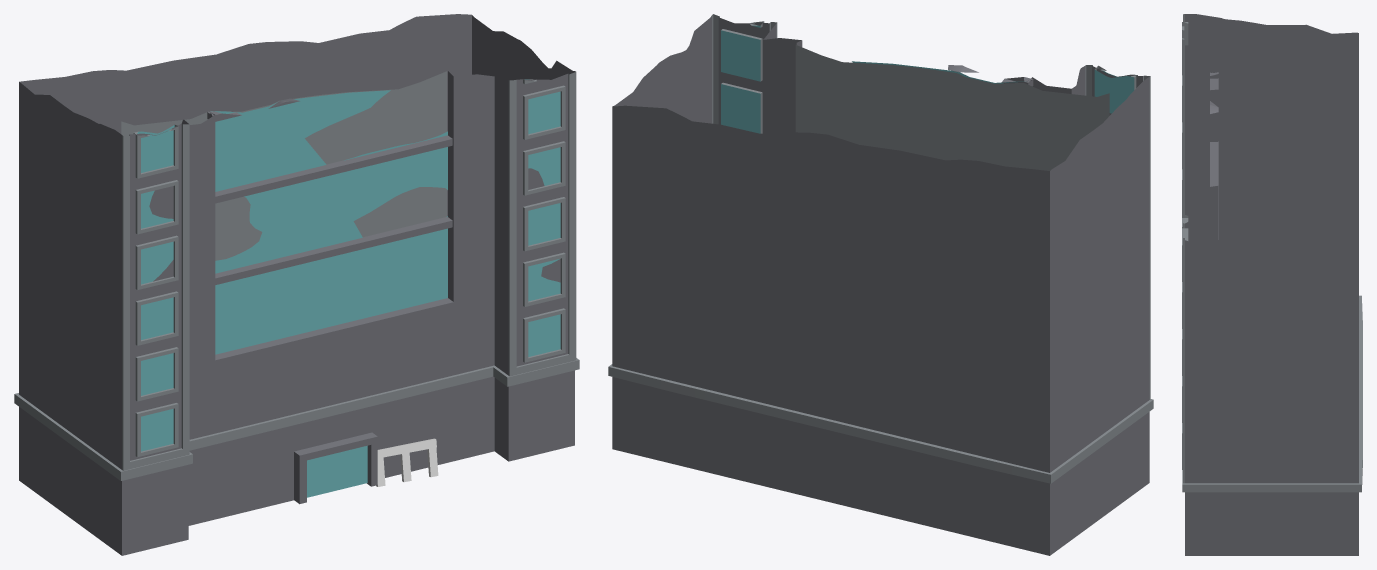
The model's file is Flat1_Verwoest.fbx.
The picture shows the model from 3 angles, left to right: view 1: azimuth 30°, elevation 25°; view 2: azimuth 150°, elevation 25°; view 3: azimuth 270°, elevation 25°; orthographic projection. The views are drawn at different scales.
Parts seen in each view (by area): view 1: Flat1_Verwoest; view 2: Flat1_Verwoest; view 3: Flat1_Verwoest.
Boxes of the visible parts, x1,y1,x2,y2 form: Flat1_Verwoest: (14, 14, 579, 555); Flat1_Verwoest: (608, 14, 1153, 555); Flat1_Verwoest: (1182, 14, 1362, 555).
Bounding box in the file's own units: 709 × 631 × 287.
